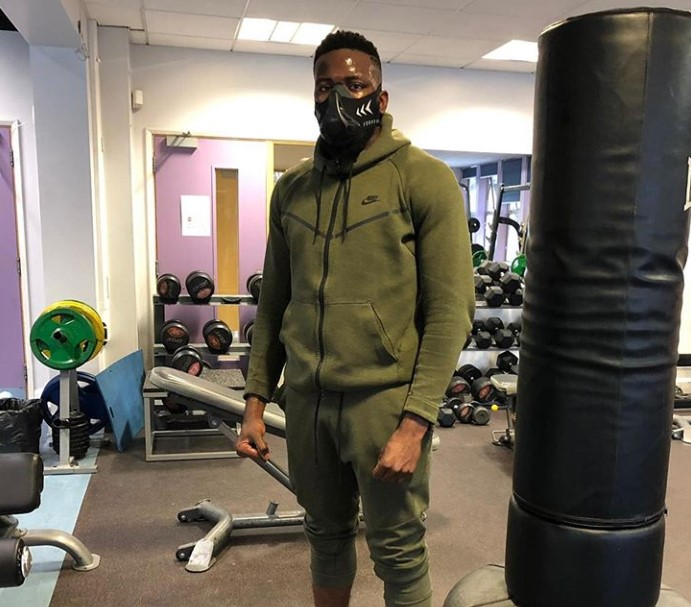face_with_mask: (311, 34, 388, 148)
